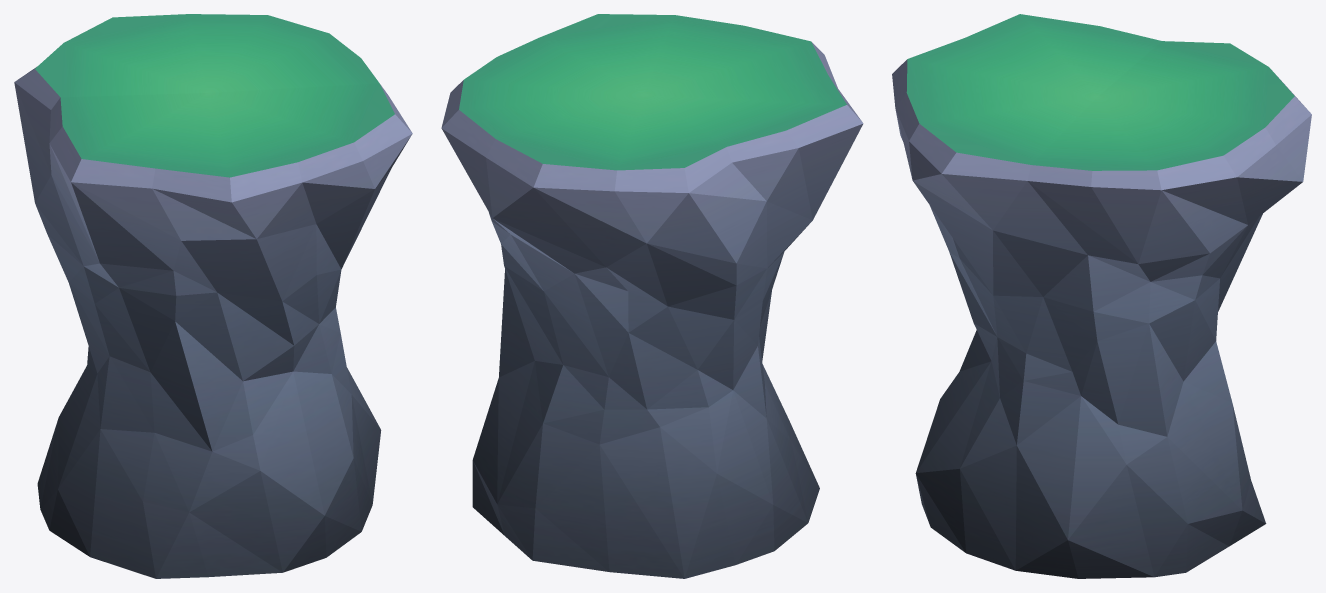
Rendered from Cliff_3.fbx.
3 views of the same model, side by side, from view 1: azimuth 30°, elevation 25°; view 2: azimuth 150°, elevation 25°; view 3: azimuth 270°, elevation 25° (orthographic).
Visible parts, largest first — view 1: Cliff 2; view 2: Cliff 2; view 3: Cliff 2.
Part boxes in pixels (x1,y1,x2,y2): Cliff 2: [14, 14, 412, 578]; Cliff 2: [441, 14, 863, 578]; Cliff 2: [892, 14, 1311, 578].
Bounding box in the file's own units: 867 × 1008 × 923.
